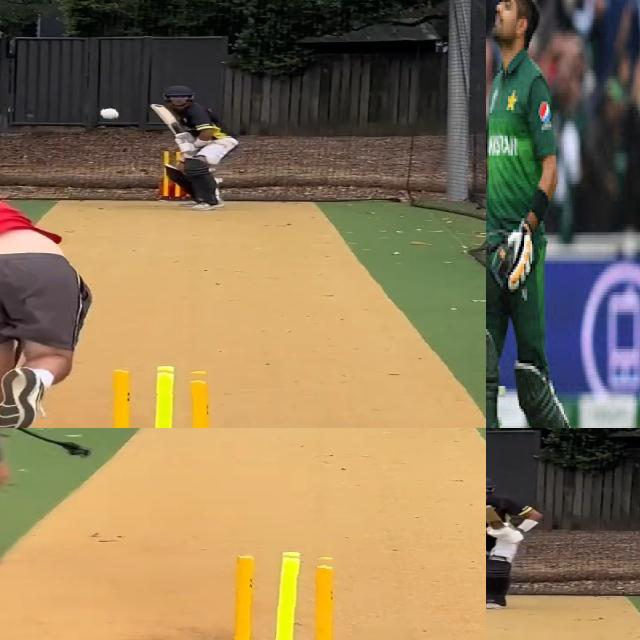Cricket ball: (97, 105, 123, 121)
Stumps: (220, 550, 354, 640), (92, 363, 224, 428)
